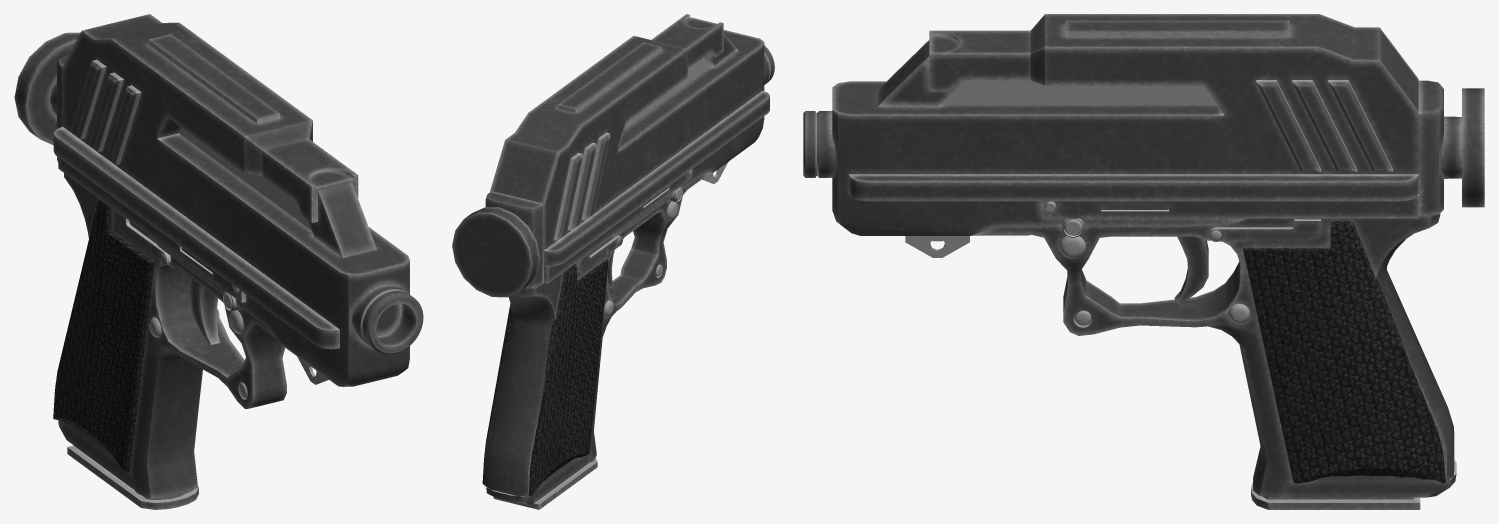
Rendered from pistol.glb.
3 views of the same model, side by side, from view 1: azimuth 30°, elevation 25°; view 2: azimuth 150°, elevation 25°; view 3: azimuth 270°, elevation 25° (orthographic). The views are drawn at different scales.
Visible parts, largest first — view 1: Cube.019; view 2: Cube.019; view 3: Cube.019.
Boxes of the visible parts, box(x1,y1,x2,y2) form: Cube.019: box(14, 14, 423, 509); Cube.019: box(452, 14, 774, 509); Cube.019: box(803, 14, 1484, 509).
Bounding box in the file's own units: 295 × 1278 × 1682.
1 material, 1 textured.
